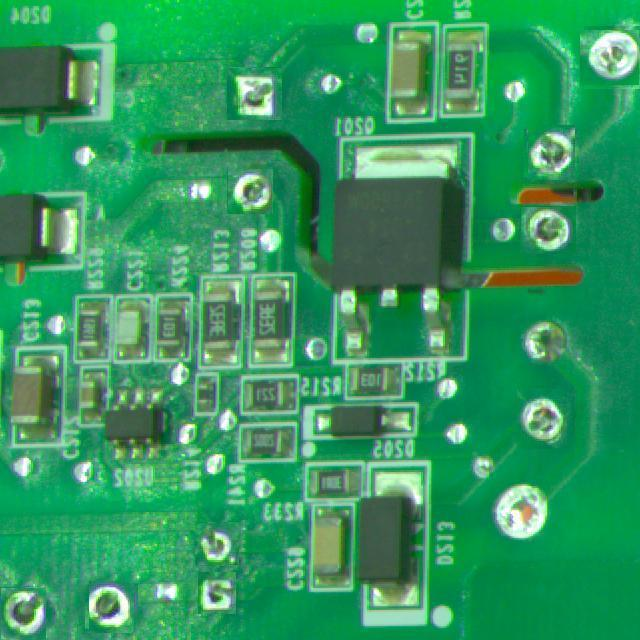lack_of_part: (488, 476, 555, 554), (582, 27, 640, 87), (517, 388, 567, 449), (226, 67, 282, 120), (520, 206, 576, 254), (526, 127, 577, 179), (0, 587, 46, 640), (87, 582, 136, 631), (228, 168, 272, 214), (196, 522, 239, 566), (197, 571, 236, 614)
